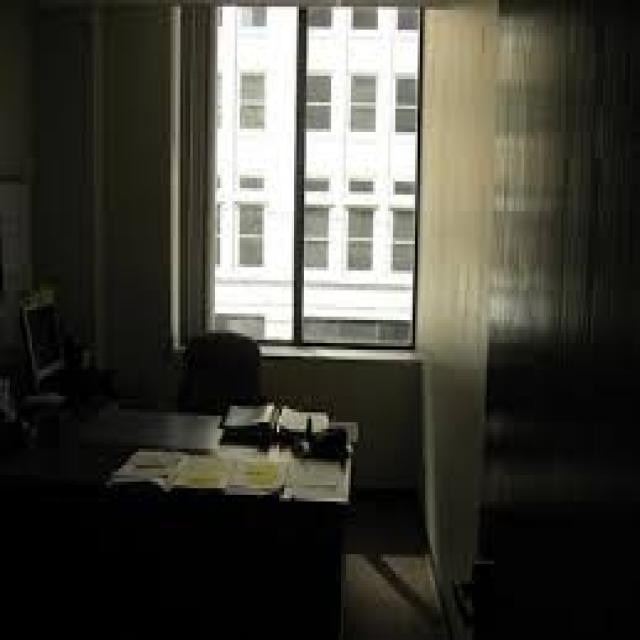Table: (42, 388, 366, 637)
chair: (168, 322, 281, 416)
